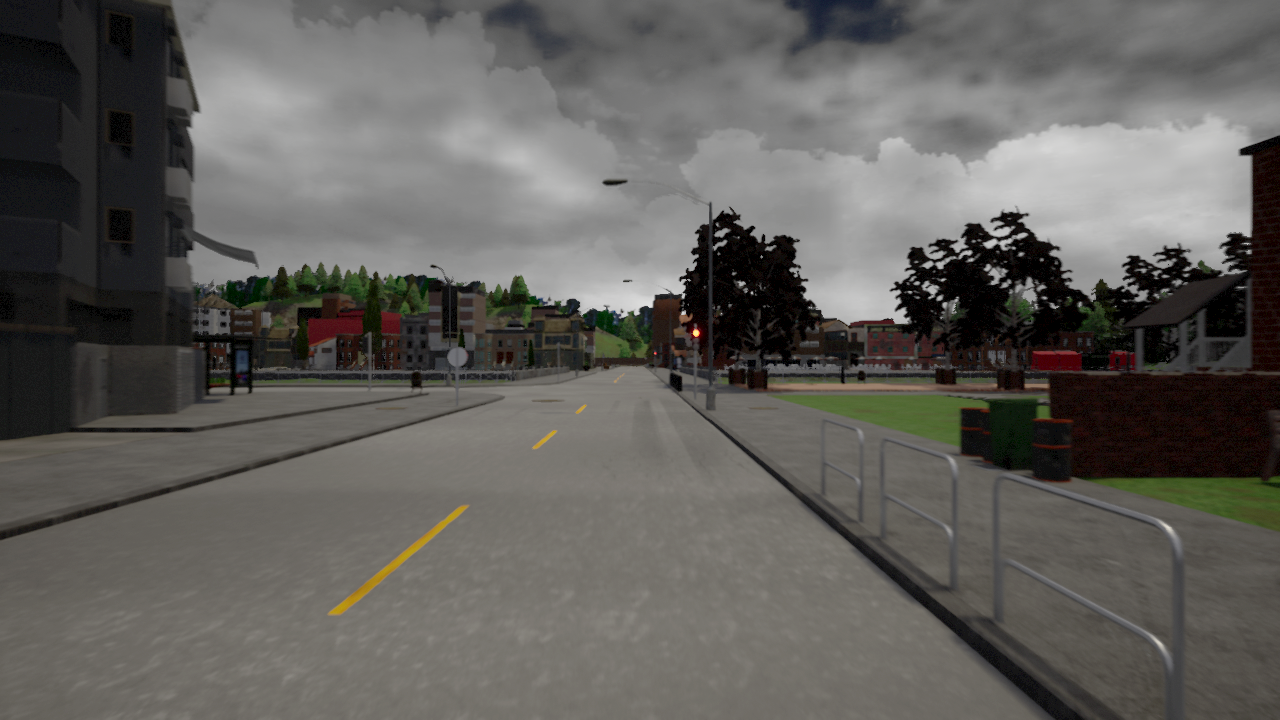red: (691, 328, 700, 352)
